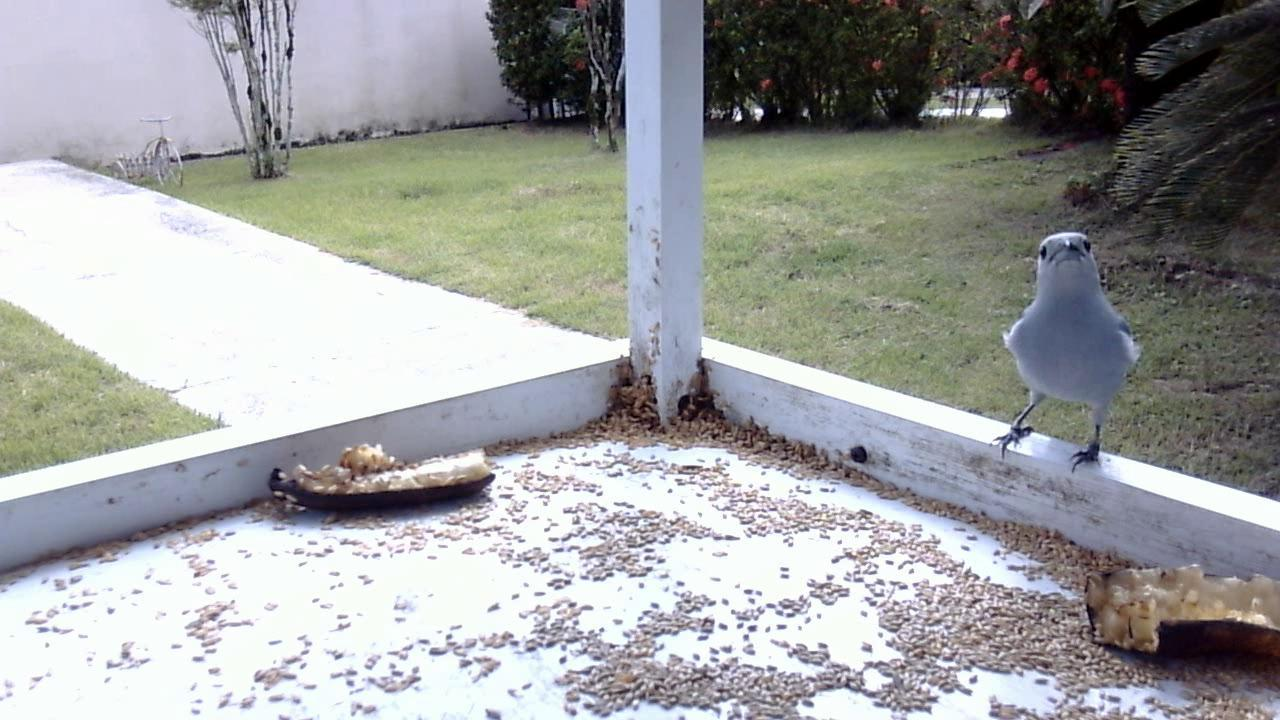sanhaco_da_amazonia: (991, 231, 1139, 472)
